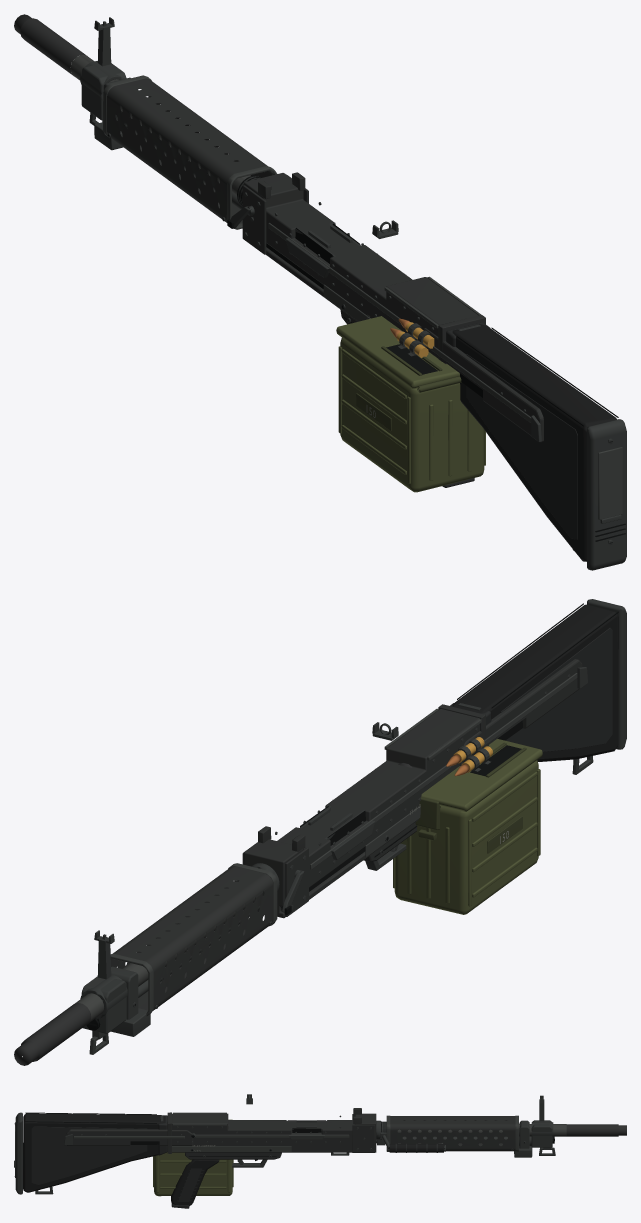
Rendered from weapon-50-z8gP0X5_.glb.
3 renders of one model, top to bottom at view 1: azimuth 30°, elevation 25°; view 2: azimuth 150°, elevation 25°; view 3: azimuth 270°, elevation 25°, orthographic. The views are drawn at different scales.
Visible parts, largest first — view 1: salient_weapon_body, salient_weapon_magazine, salient_weapon_cover, salient_weapon_belt, salient_weapon_iron; view 2: salient_weapon_body, salient_weapon_magazine, salient_weapon_cover, salient_weapon_belt, salient_weapon_iron; view 3: salient_weapon_body, salient_weapon_magazine, salient_weapon_cover, salient_weapon_iron.
Part boxes in pixels (x1,y1,x2,y2): salient_weapon_body: [14, 14, 626, 570]; salient_weapon_magazine: [336, 316, 485, 492]; salient_weapon_cover: [422, 324, 543, 442]; salient_weapon_belt: [390, 318, 434, 357]; salient_weapon_iron: [94, 17, 398, 238]; salient_weapon_body: [14, 599, 626, 1065]; salient_weapon_magazine: [393, 739, 542, 914]; salient_weapon_cover: [458, 659, 587, 765]; salient_weapon_belt: [446, 737, 492, 776]; salient_weapon_iron: [94, 722, 398, 979]; salient_weapon_body: [14, 1108, 626, 1208]; salient_weapon_magazine: [153, 1119, 233, 1196]; salient_weapon_cover: [64, 1115, 195, 1145]; salient_weapon_iron: [246, 1094, 544, 1121].
Size of the model in its own units: 0.1099 by 0.2006 by 1.01.
